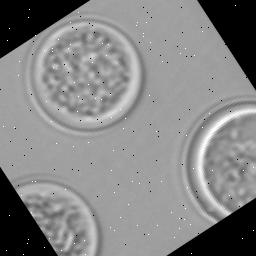picoshell: (24, 14, 143, 136), (180, 98, 256, 223), (11, 173, 101, 256)
